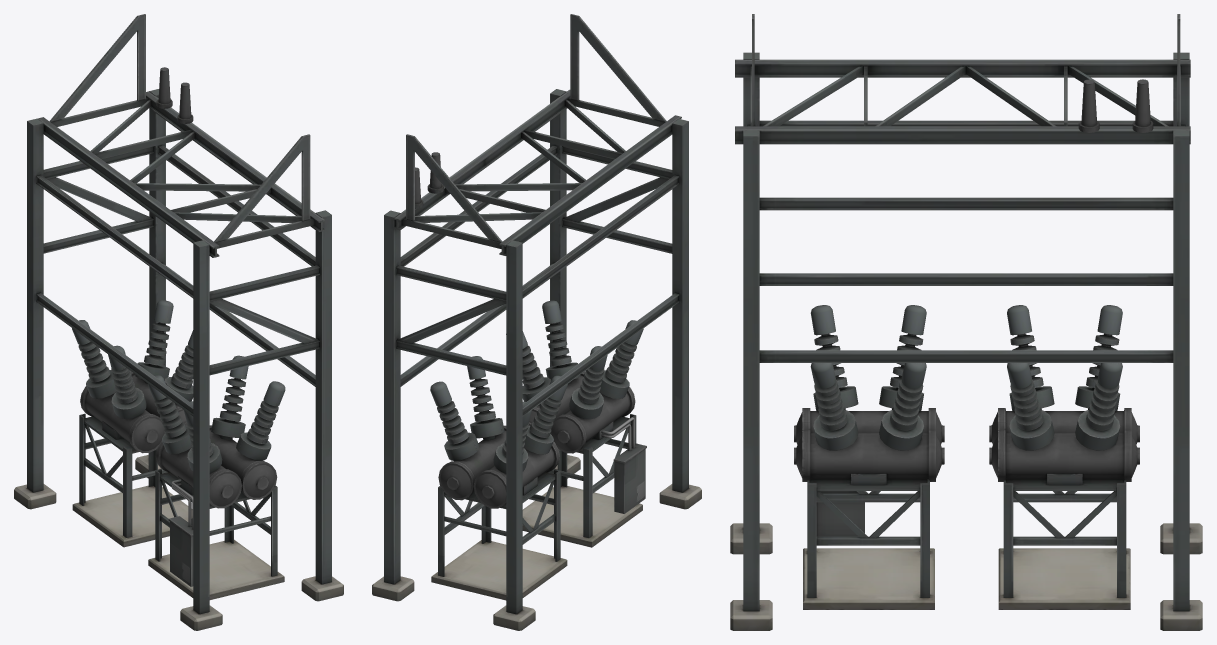
3 renders of one model, left to right at view 1: azimuth 30°, elevation 25°; view 2: azimuth 150°, elevation 25°; view 3: azimuth 270°, elevation 25°, orthographic. The views are drawn at different scales.
Visible parts, largest first — view 1: body0_model0_lod0_mesh0; view 2: body0_model0_lod0_mesh0; view 3: body0_model0_lod0_mesh0.
Part boxes in pixels (bbox=[...]): body0_model0_lod0_mesh0: bbox=[14, 14, 343, 630]; body0_model0_lod0_mesh0: bbox=[372, 14, 701, 630]; body0_model0_lod0_mesh0: bbox=[730, 14, 1202, 630].
Bounding box in the file's own units: 129 × 380 × 273.
Materials: 1 (1 with a texture image).
